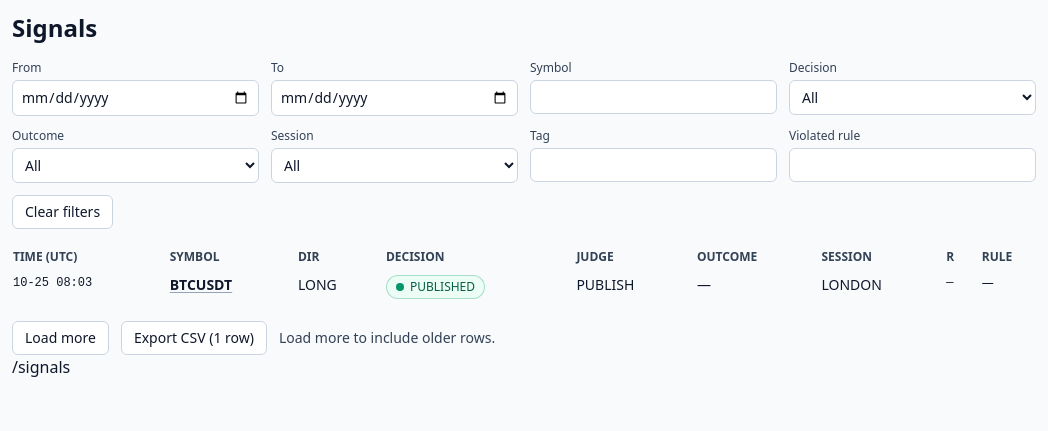
Test: SignalsPage › drops the extra pages when a filter changes after loading more
Expected: the link "BTCUSDT" is shown, [170, 275, 232, 294]
Click the button "Load more" at (60, 338), box [12, 321, 109, 355]
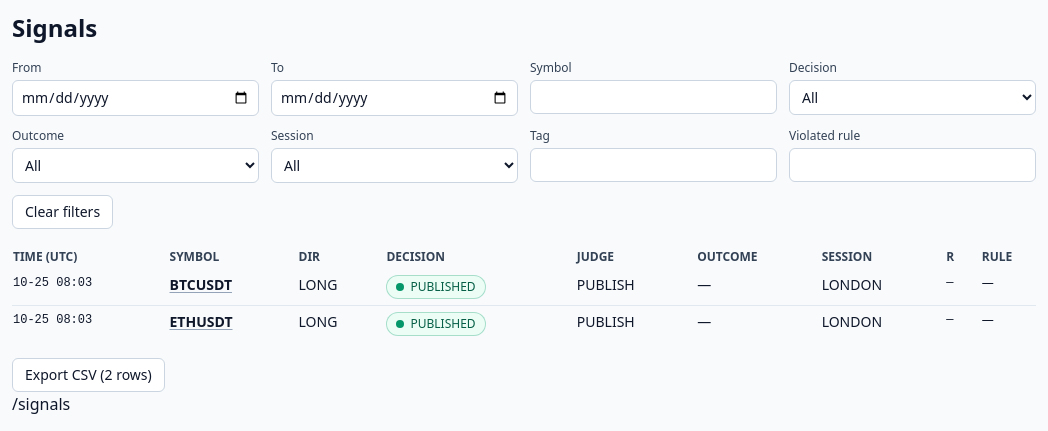
Expected: the link "ETHUSDT" is shown, [170, 312, 232, 331]
Select "VETOED" in the dropdown labelled "Decision" at (912, 98), box [789, 80, 1036, 115]
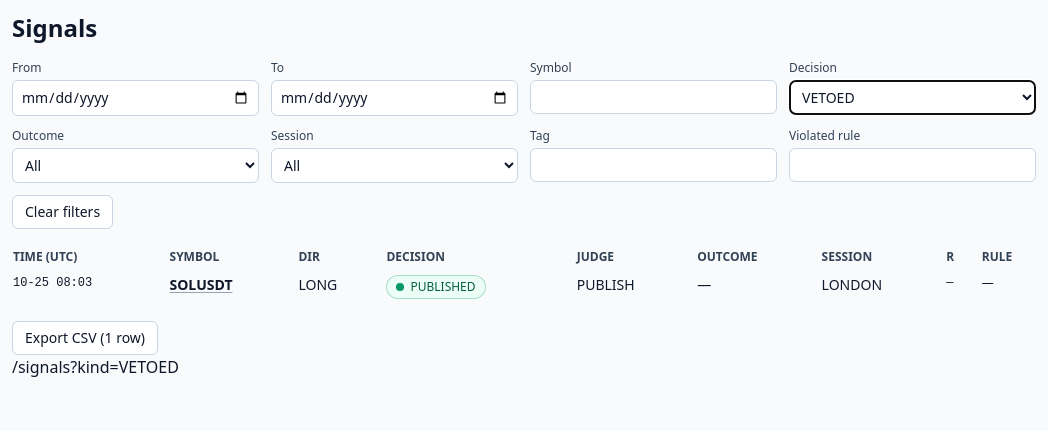
Expected: the link "SOLUSDT" is shown, [170, 275, 232, 294]
Expected: the link "BTCUSDT" is gone
Expected: the link "ETHUSDT" is gone
